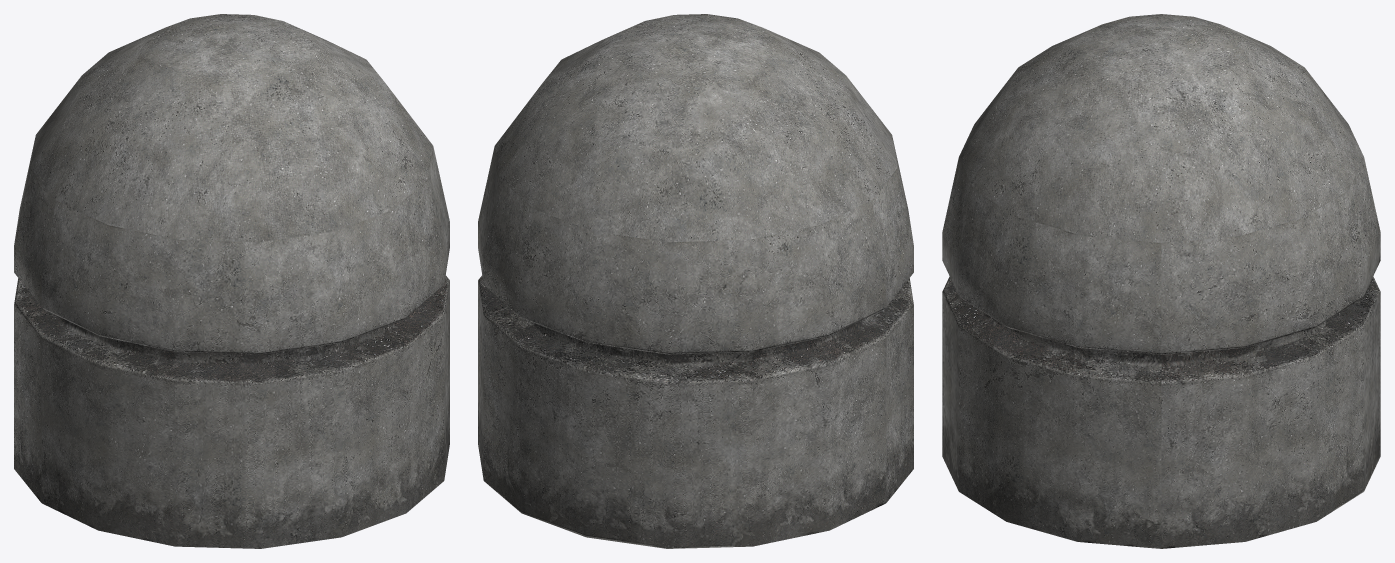
Rendered from SM_ConcreteStopper_01.fbx.
3 renders of one model, left to right at view 1: azimuth 30°, elevation 25°; view 2: azimuth 150°, elevation 25°; view 3: azimuth 270°, elevation 25°, orthographic.
Parts seen in each view (by area): view 1: SM_ConcreteStopper_01_LOD0; view 2: SM_ConcreteStopper_01_LOD0; view 3: SM_ConcreteStopper_01_LOD0.
Boxes of the visible parts, bbox=[...] form: SM_ConcreteStopper_01_LOD0: bbox=[14, 14, 449, 548]; SM_ConcreteStopper_01_LOD0: bbox=[478, 14, 913, 548]; SM_ConcreteStopper_01_LOD0: bbox=[942, 14, 1380, 548].
Size of the model in its own units: 30 by 30 by 31.84.
